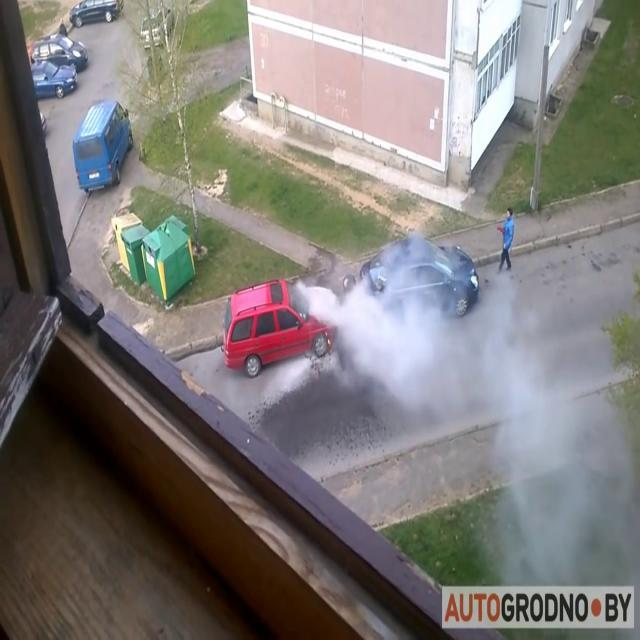Smoke: (480, 268, 632, 572), (310, 232, 518, 409)
